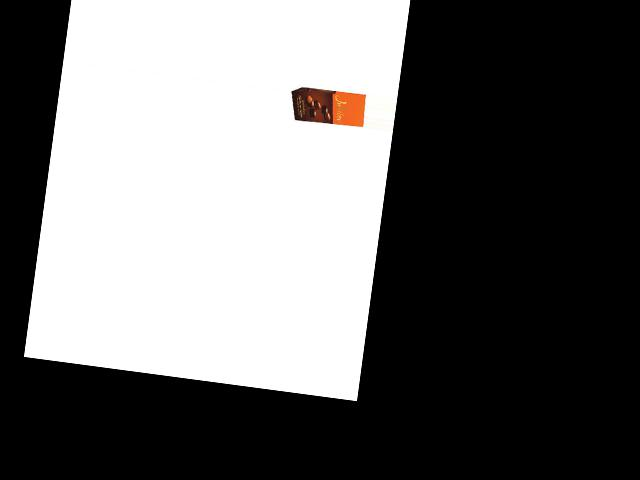chocolate: (288, 83, 367, 133)
